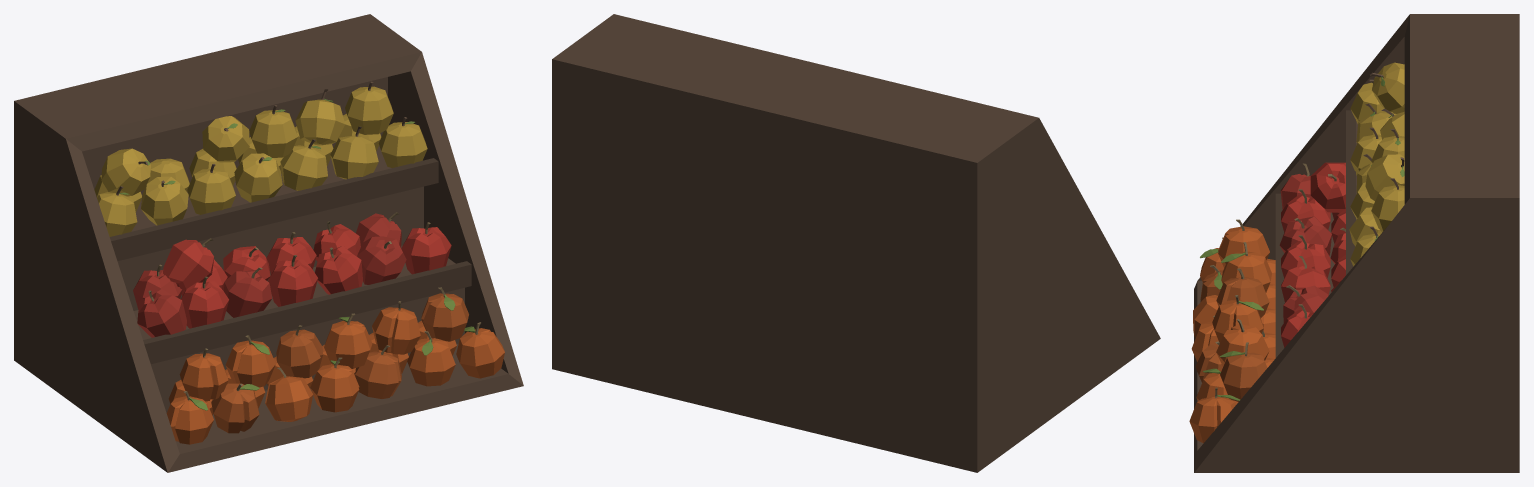
Rendered from SM_Props_Farm_Crate_Filled_Stall_03.fbx.
The picture shows the model from 3 angles, left to right: view 1: azimuth 30°, elevation 25°; view 2: azimuth 150°, elevation 25°; view 3: azimuth 270°, elevation 25°; orthographic projection. The views are drawn at different scales.
Visible parts, largest first — view 1: SM_Props_Farm_Crate_Filled_Stall_03; view 2: SM_Props_Farm_Crate_Filled_Stall_03; view 3: SM_Props_Farm_Crate_Filled_Stall_03.
Part boxes in pixels (x1=…): SM_Props_Farm_Crate_Filled_Stall_03: x1=14, y1=14, x2=523, y2=472; SM_Props_Farm_Crate_Filled_Stall_03: x1=552, y1=14, x2=1160, y2=472; SM_Props_Farm_Crate_Filled_Stall_03: x1=1189, y1=14, x2=1519, y2=472.
Bounding box in the file's own units: 104 × 72.51 × 78.91.
